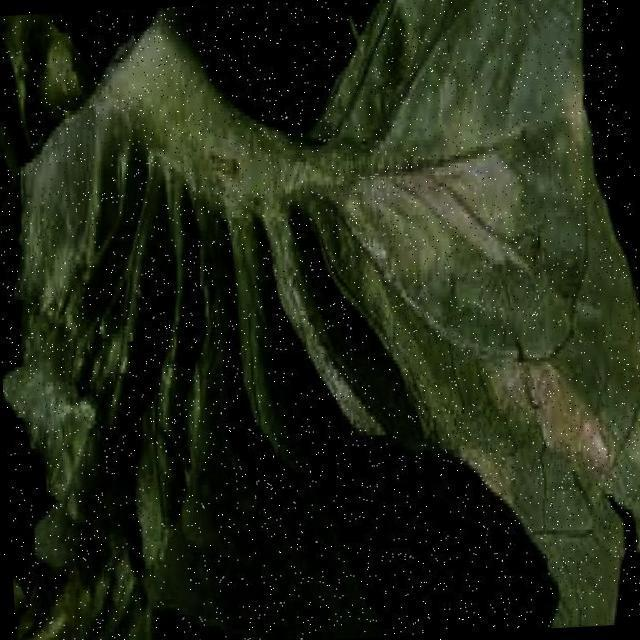Downy_mildew_on_lettuce: (286, 127, 629, 520)
